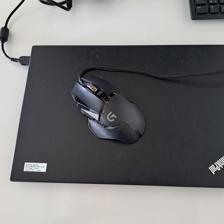mouse: (69, 73, 146, 144)
